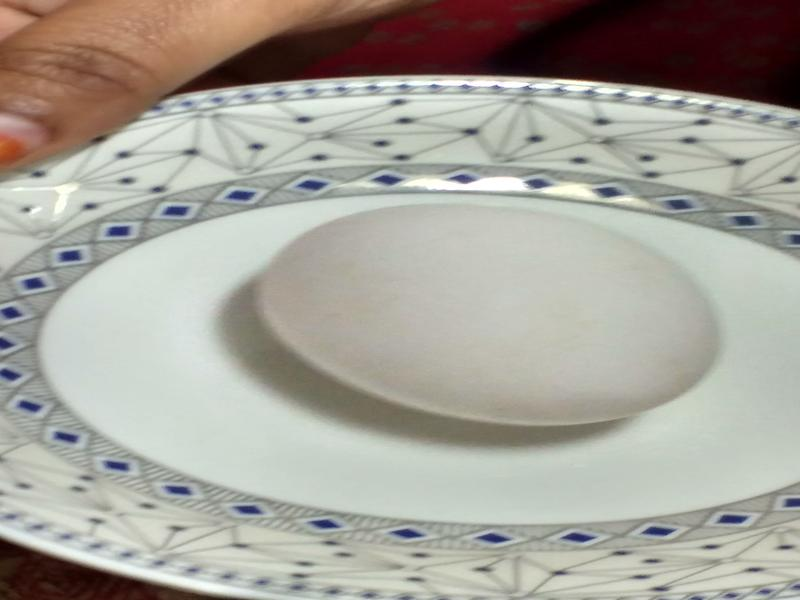egg: (264, 208, 722, 432)
